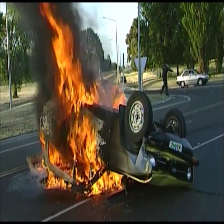fire_h: (39, 3, 107, 182), (84, 171, 123, 196), (43, 172, 71, 191)
fire_l: (112, 84, 127, 109), (39, 130, 46, 154), (36, 158, 47, 171)
